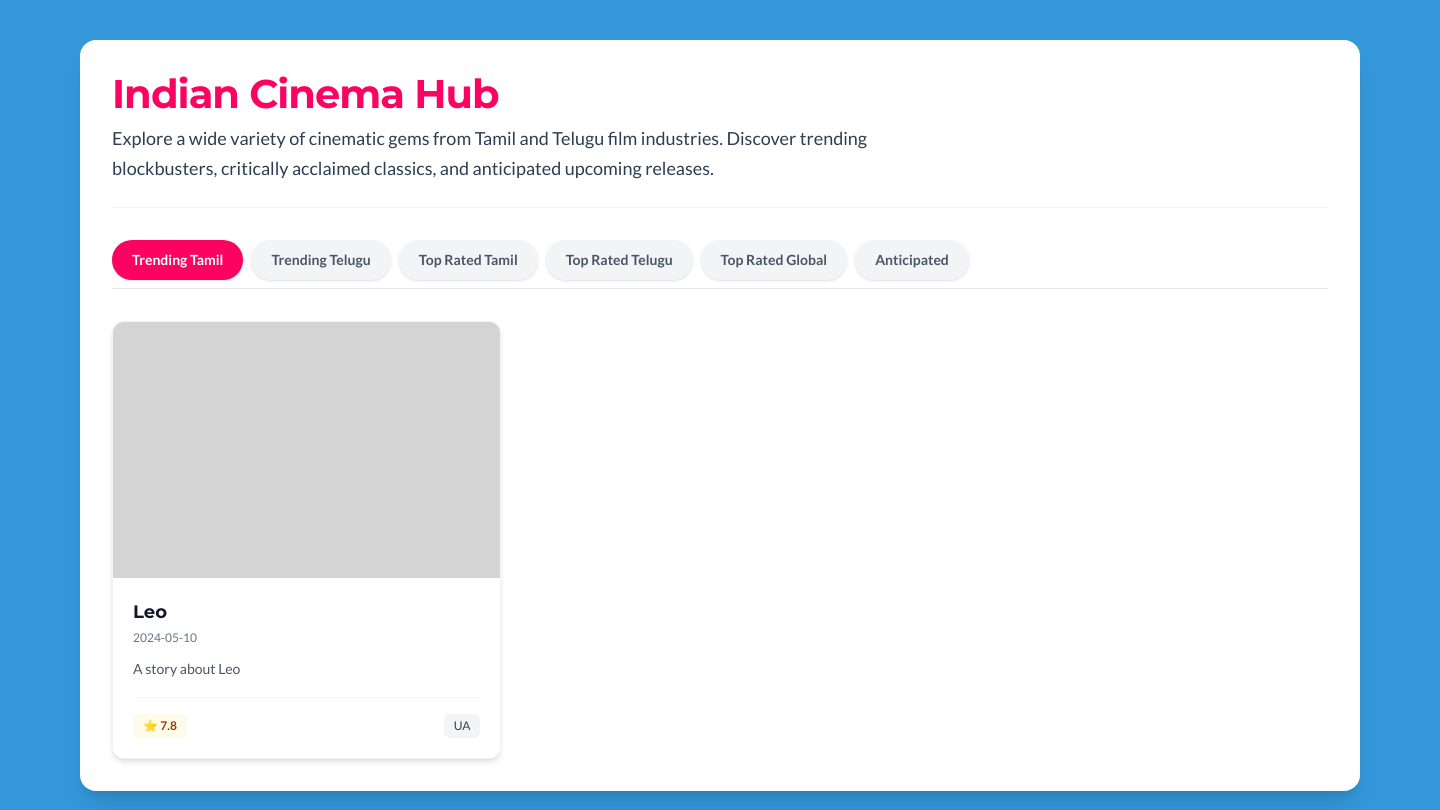
Test: IndianMovies.vue › switches tabs and updates the rendered movie cards correctly
The image size is (1440, 810).
Click the button "Trending Telugu".
click(321, 260)  # box [251,240,391,280]
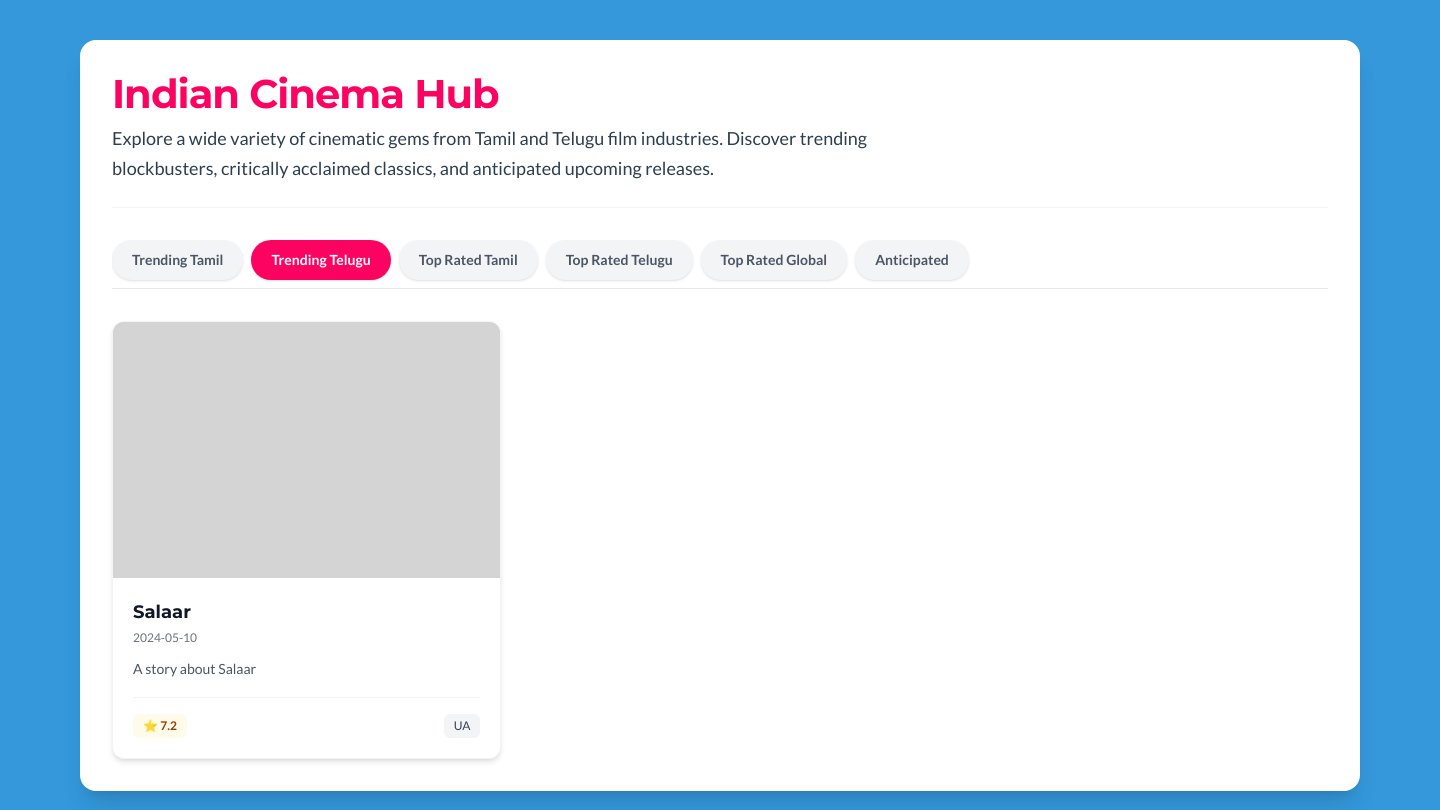
Now the text "Salaar" is shown, box [133,601,191,623]
Now the text "Leo" is gone
Click the button "Top Rated Tamil".
click(468, 260)  # box [399,240,538,280]
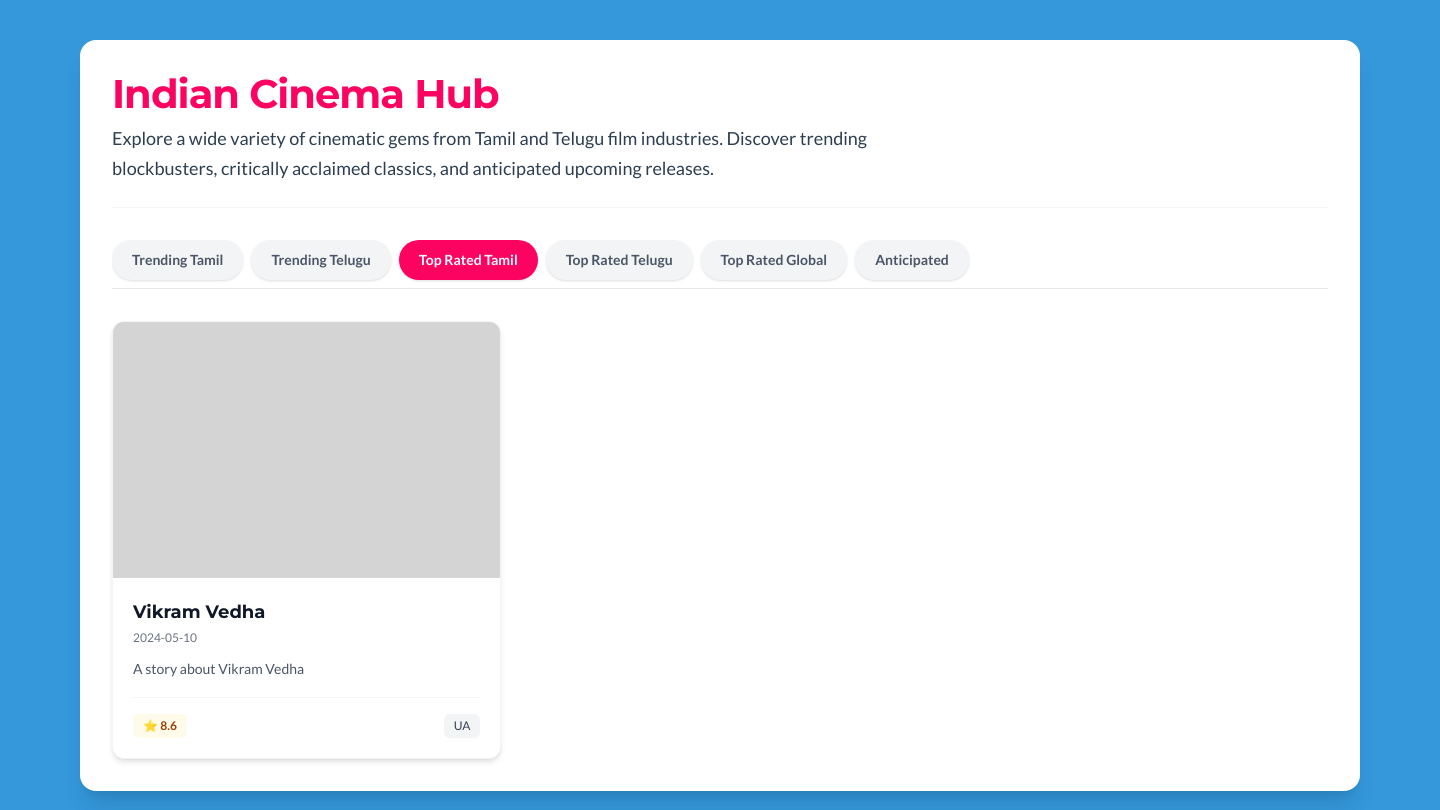
Now the text "Vikram Vedha" is shown, box [133,601,265,623]
Click the button "Top Rated Telugu".
click(619, 260)  # box [546,240,693,280]
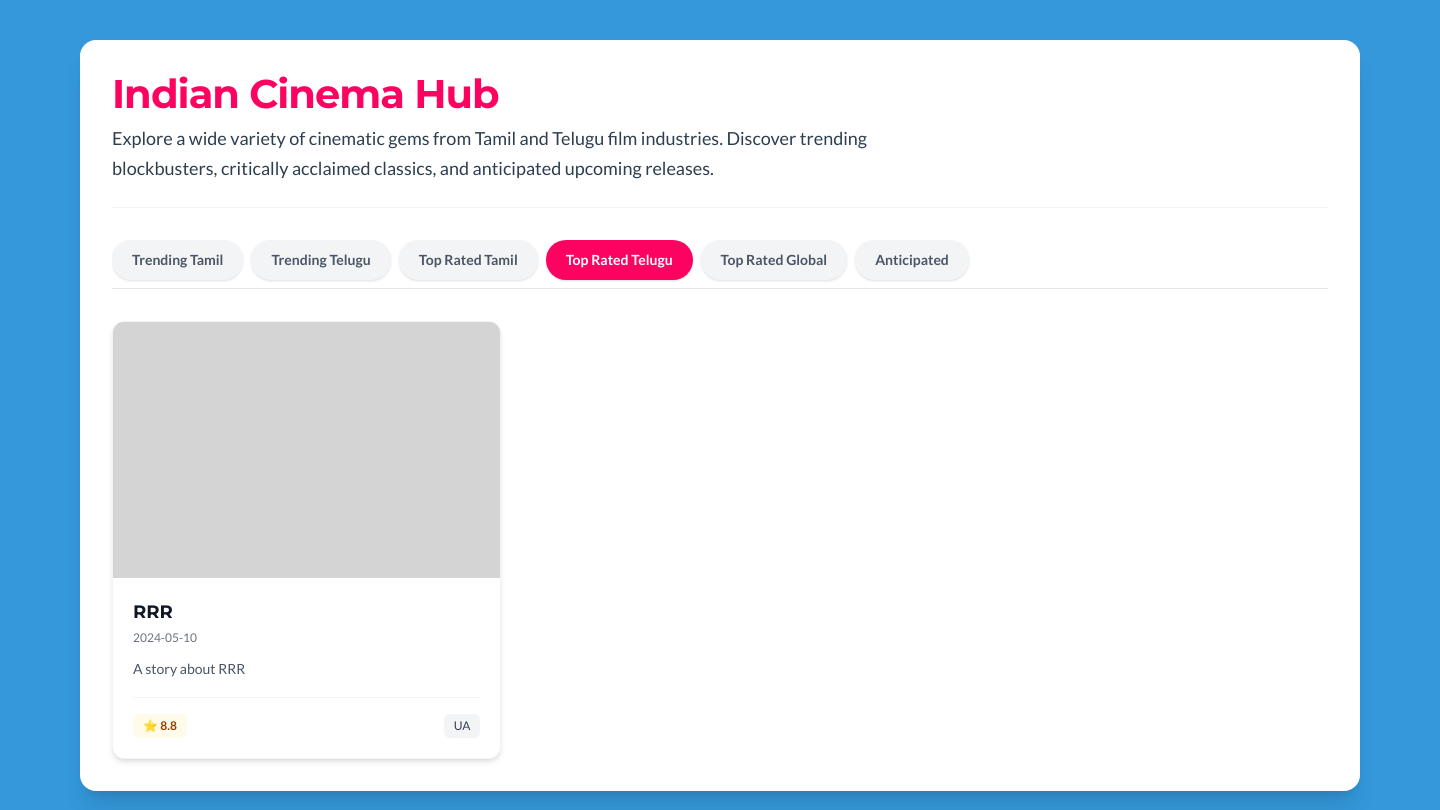
Now the text "RRR" is shown, box [133,601,173,623]
Click the button "Top Rated Global".
click(774, 260)  # box [701,240,847,280]
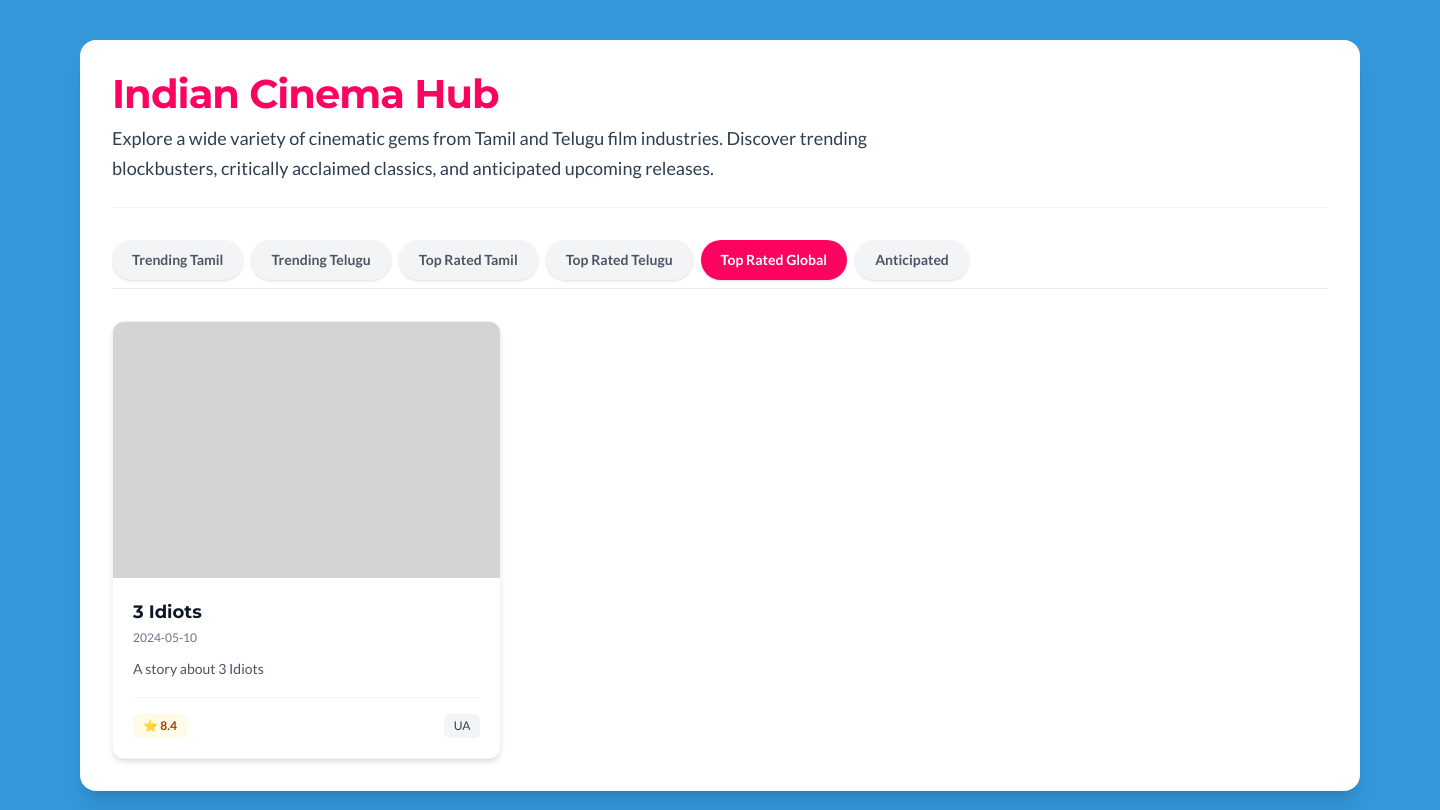
Now the text "3 Idiots" is shown, box [133,601,202,623]
Click the button "Anticipated".
click(912, 260)  # box [855,240,969,280]
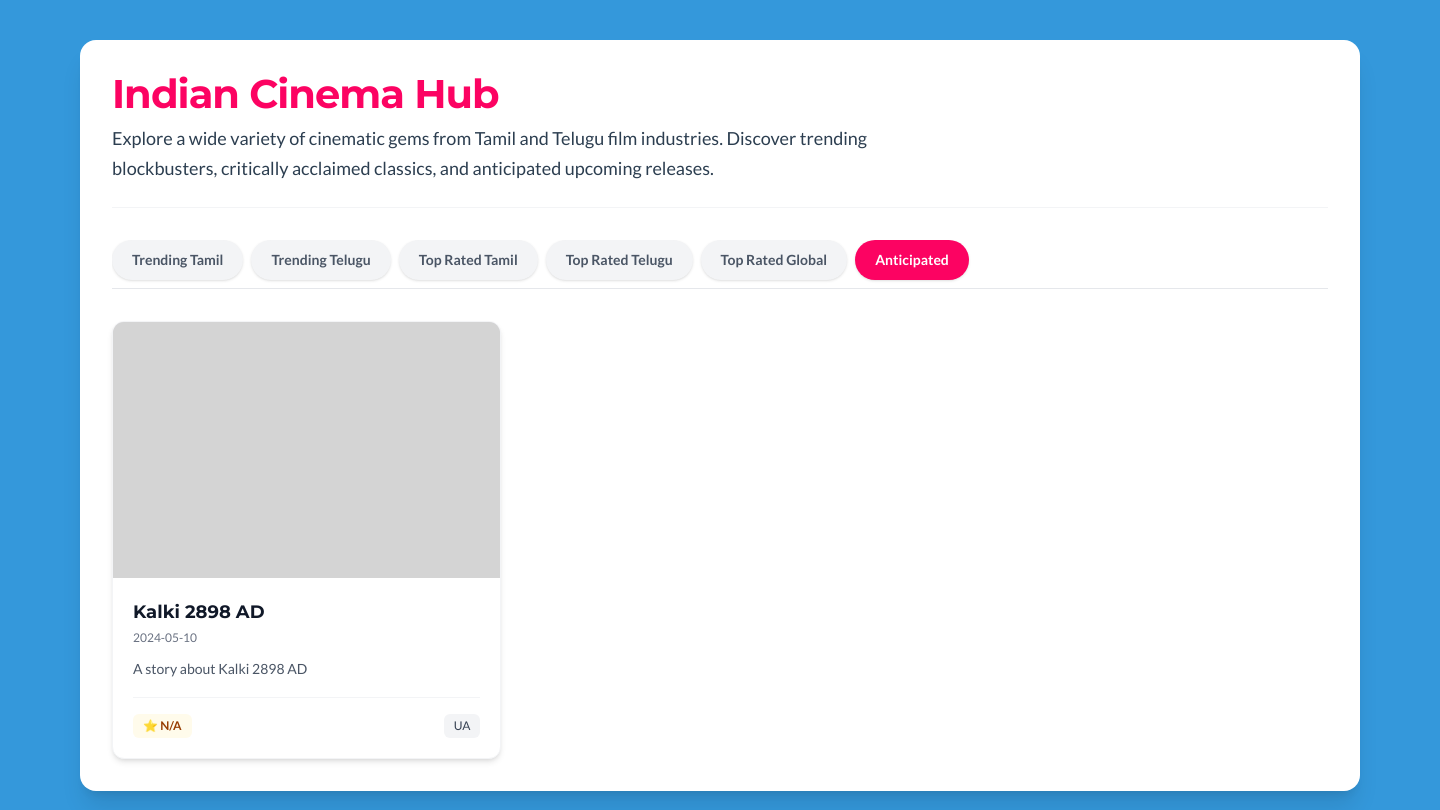
Now the text "Kalki 2898 AD" is shown, box [133,601,264,623]
